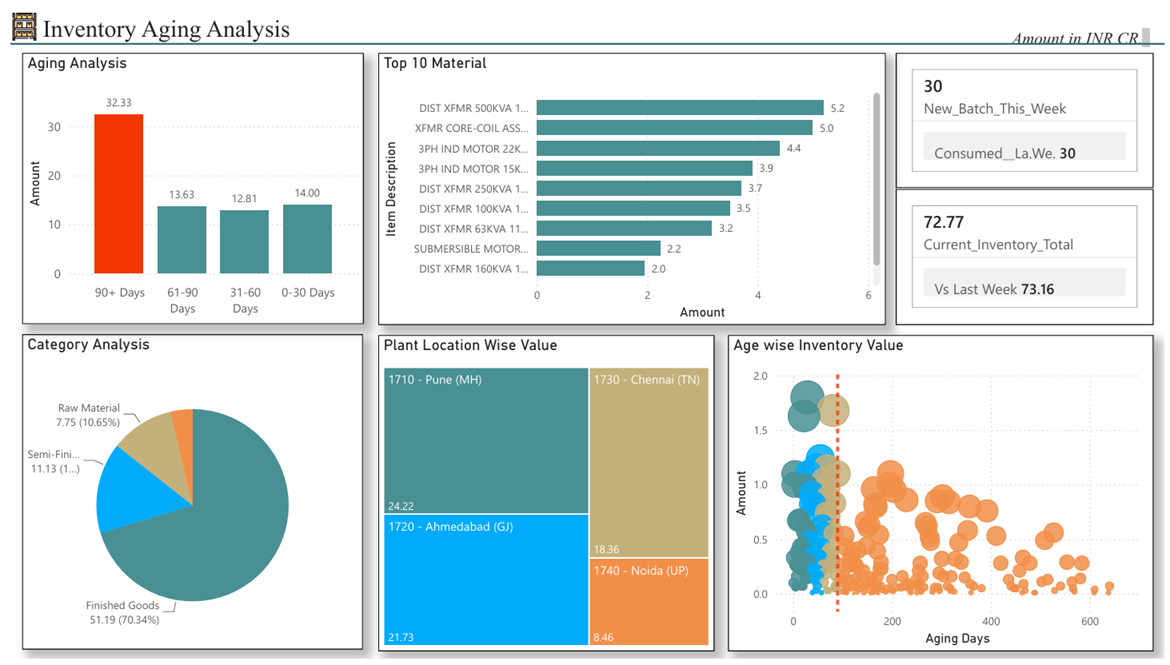

The dashboard page shown, as its layout file describes it:
{"tool":"powerbi","page":{"name":"Inventory Comparision","canvas":[1280,720],"ordinal":0},"visuals":[{"type":"pieChart","title":"Category Analysis","fields":{"Category":["Database.Category Type Description"],"Y":["Sum(Database.Amount_in_Cr.)"]},"box":[13.5,359.5,377.9,351],"z":0},{"type":"cardVisual","fields":{"Data":["Metrics.New_Batch"]},"box":[503.8,74.6,327.5,165],"z":1000},{"type":"textbox","box":[1098.6,15.7,170,31.4],"z":2000},{"type":"textbox","box":[30.6,1.2,1022.3,72.1],"z":3000},{"type":"columnChart","title":"Aging Analysis","fields":{"Category":["Sheet1.Aging_Group"],"Y":["Sum(Database.Amount_in_Cr.)"]},"box":[13.5,47.7,378.3,301.7],"z":4000},{"type":"clusteredBarChart","title":"Top 10 Material","fields":{"Category":["Database.Item Description"],"Y":["Sum(Database.Amount_in_Cr.)"]},"box":[408.4,47.7,562.5,302],"z":5000},{"type":"treemap","title":"Plant Location Wise Value","fields":{"Group":["Database.Plant Location"],"Values":["Sum(Database.Amount_in_Cr.)"]},"box":[408.4,360.7,373,351],"z":6000},{"type":"scatterChart","title":"Age wise Inventory Value","fields":{"Series":["Database.Aging_Group"],"Size":["Sum(Database.Amount_in_Cr.)"],"X":["Database.Aging Days"],"Y":["Sum(Database.Amount_in_Cr.)"]},"box":[796.1,360.7,472,351],"z":7000},{"type":"cardVisual","fields":{"Data":["Sheet1.Current_Inventory_Total"]},"box":[981.9,199.3,286.1,150.4],"z":8000},{"type":"image","box":[0,0,30.6,37.9],"z":9000},{"type":"shape","box":[0,1.2,1280.3,73.4],"z":10000},{"type":"cardVisual","fields":{"Data":["Metrics.New_Batch_This_Week"]},"box":[981.9,47.7,286.1,150.4],"z":11000}]}

Visuals, with their boxes in screenshot pixels (x1, y1, x2, y2), scaled from the page's 1280x720 canvas onto the 1170x665 screenshot:
"Category Analysis" pieChart: x1=12, y1=332, x2=358, y2=656
cardVisual - Metrics.New_Batch: x1=461, y1=69, x2=760, y2=221
textbox: x1=1004, y1=15, x2=1160, y2=44
textbox: x1=28, y1=1, x2=962, y2=68
"Aging Analysis" columnChart: x1=12, y1=44, x2=358, y2=323
"Top 10 Material" clusteredBarChart: x1=373, y1=44, x2=887, y2=323
"Plant Location Wise Value" treemap: x1=373, y1=333, x2=714, y2=657
"Age wise Inventory Value" scatterChart: x1=728, y1=333, x2=1159, y2=657
cardVisual - Sheet1.Current_Inventory_Total: x1=898, y1=184, x2=1159, y2=323
image: x1=0, y1=0, x2=28, y2=35
shape: x1=0, y1=1, x2=1169, y2=69
cardVisual - Metrics.New_Batch_This_Week: x1=898, y1=44, x2=1159, y2=183
